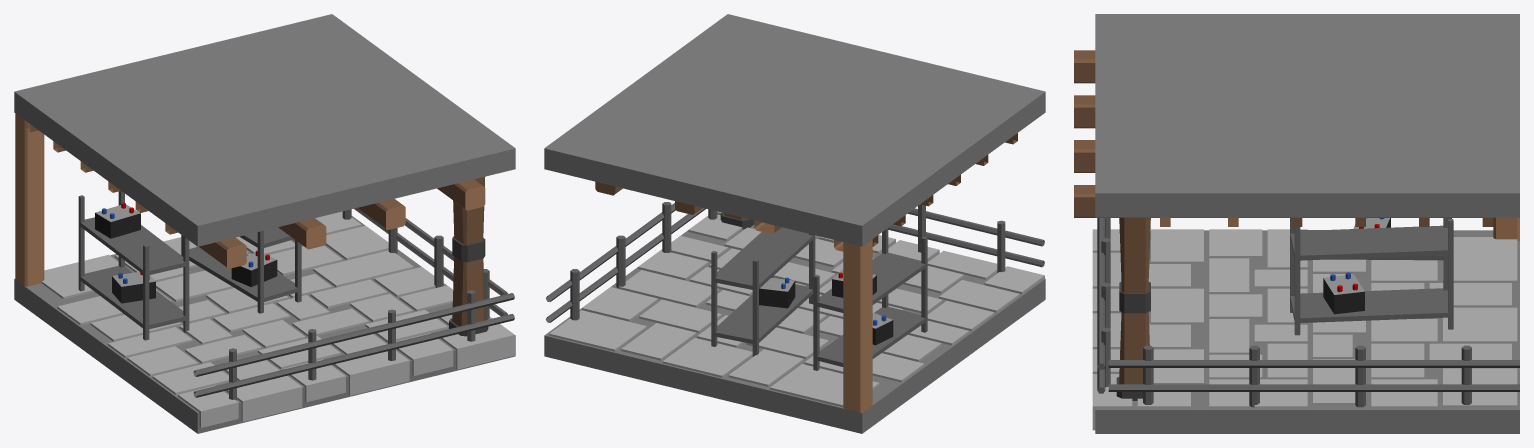
Rendered from BatteryRom_Lvl_01_CornerLeftRight.fbx.
3 views of the same model, side by side, from view 1: azimuth 30°, elevation 25°; view 2: azimuth 150°, elevation 25°; view 3: azimuth 270°, elevation 25° (orthographic). The views are drawn at different scales.
Parts seen in each view (by area): view 1: BatteryRom_Lvl_01_CornerLeftRight; view 2: BatteryRom_Lvl_01_CornerLeftRight; view 3: BatteryRom_Lvl_01_CornerLeftRight.
Boxes of the visible parts, bbox=[...] form: BatteryRom_Lvl_01_CornerLeftRight: bbox=[14, 14, 515, 433]; BatteryRom_Lvl_01_CornerLeftRight: bbox=[544, 14, 1045, 433]; BatteryRom_Lvl_01_CornerLeftRight: bbox=[1074, 14, 1519, 433].
Size of the model in its own units: 8 by 5 by 8.4.
